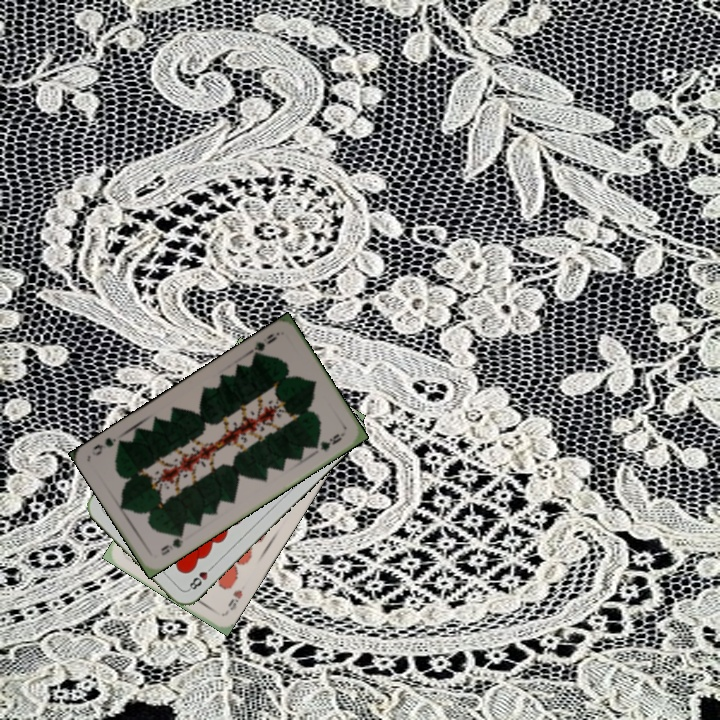G9: (245, 328, 282, 361), (157, 528, 186, 558)
H8: (184, 561, 216, 593)
H9: (221, 586, 245, 617)
